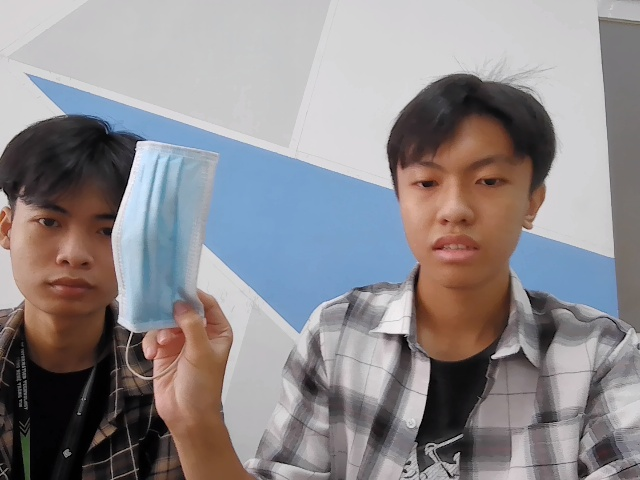human: (387, 81, 550, 283), (1, 110, 153, 317)
mask: (113, 134, 213, 332)
